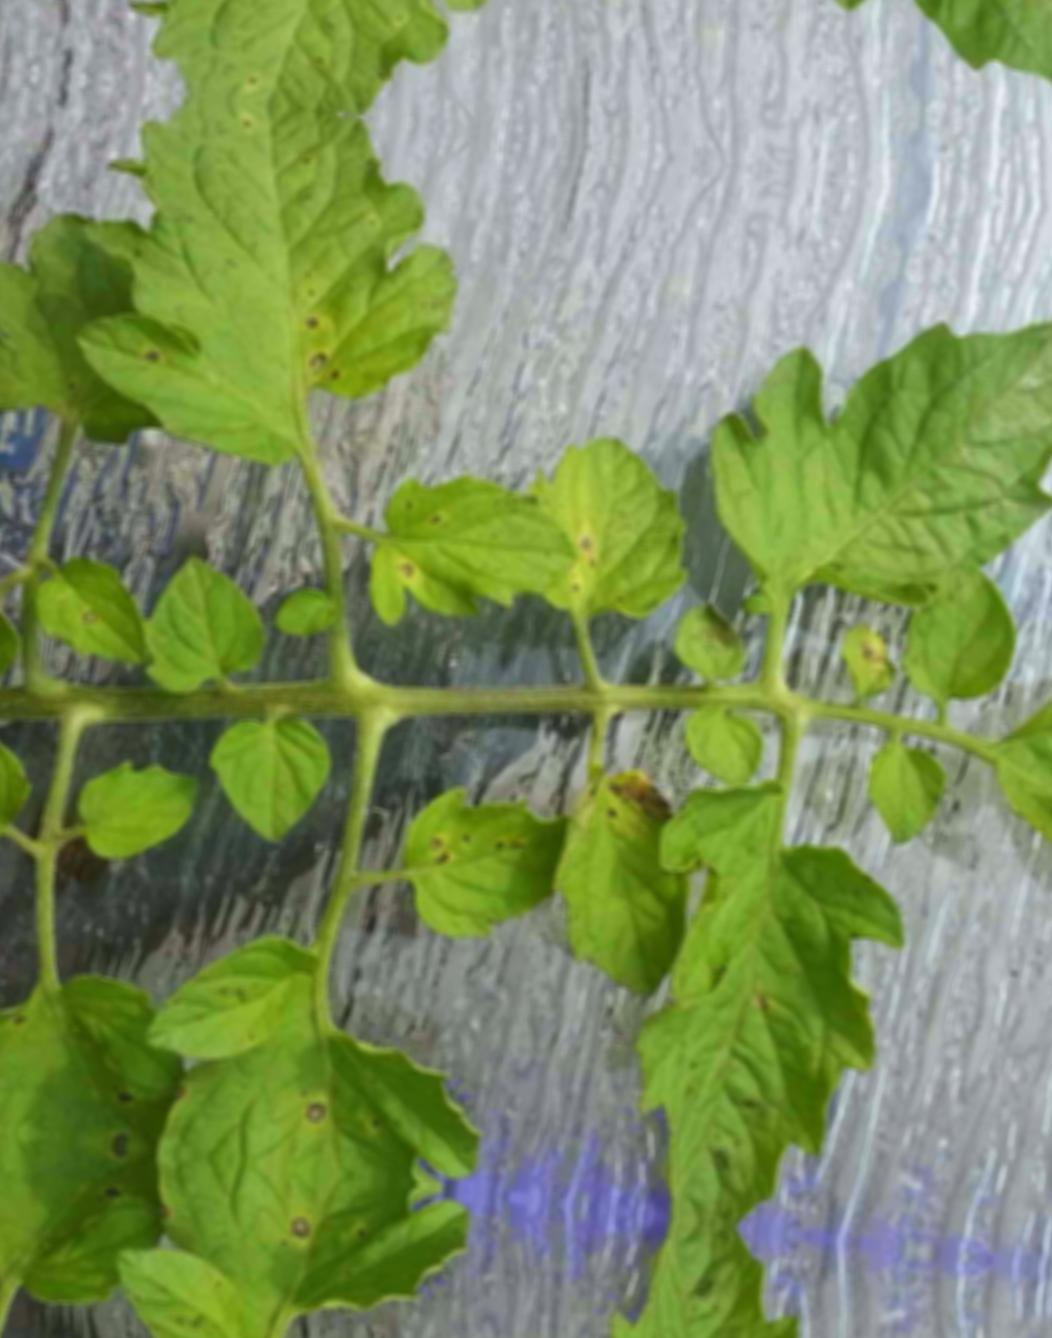Tomato Septoria leaf spot: (36, 79, 468, 477), (115, 918, 518, 1195), (331, 407, 601, 660), (494, 424, 704, 654), (358, 760, 594, 960), (546, 742, 718, 1007)
